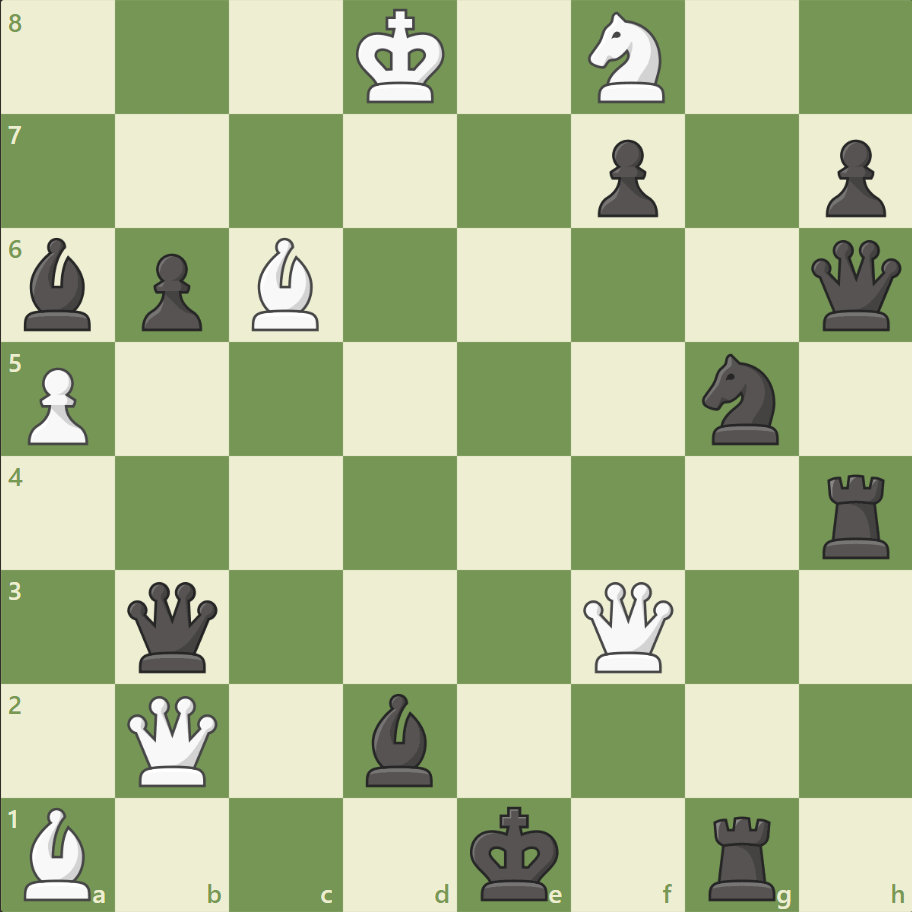B: (244, 233, 328, 336), (17, 801, 101, 904)
K: (351, 4, 451, 112)
N: (579, 7, 676, 110)
P: (20, 359, 95, 450)
Q: (578, 576, 677, 676), (124, 690, 223, 789)
b: (17, 233, 101, 336), (358, 687, 442, 790)
k: (465, 798, 565, 906)
n: (692, 348, 789, 450)
p: (133, 246, 208, 337), (588, 132, 662, 223), (815, 132, 889, 223)
q: (124, 576, 223, 676), (805, 236, 904, 335)
r: (700, 806, 783, 904), (814, 466, 897, 563)
